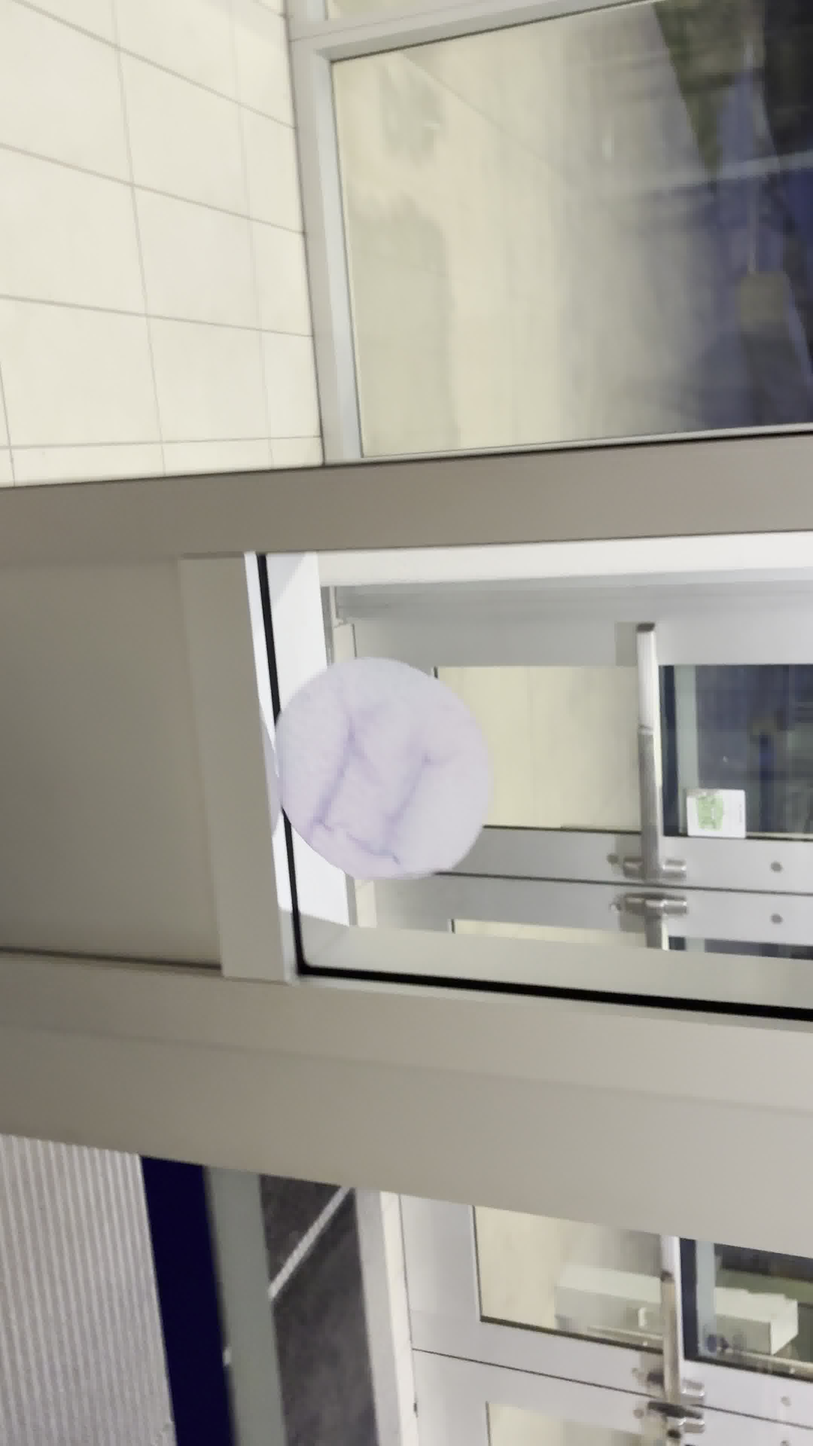Target: (259, 652, 499, 882)
